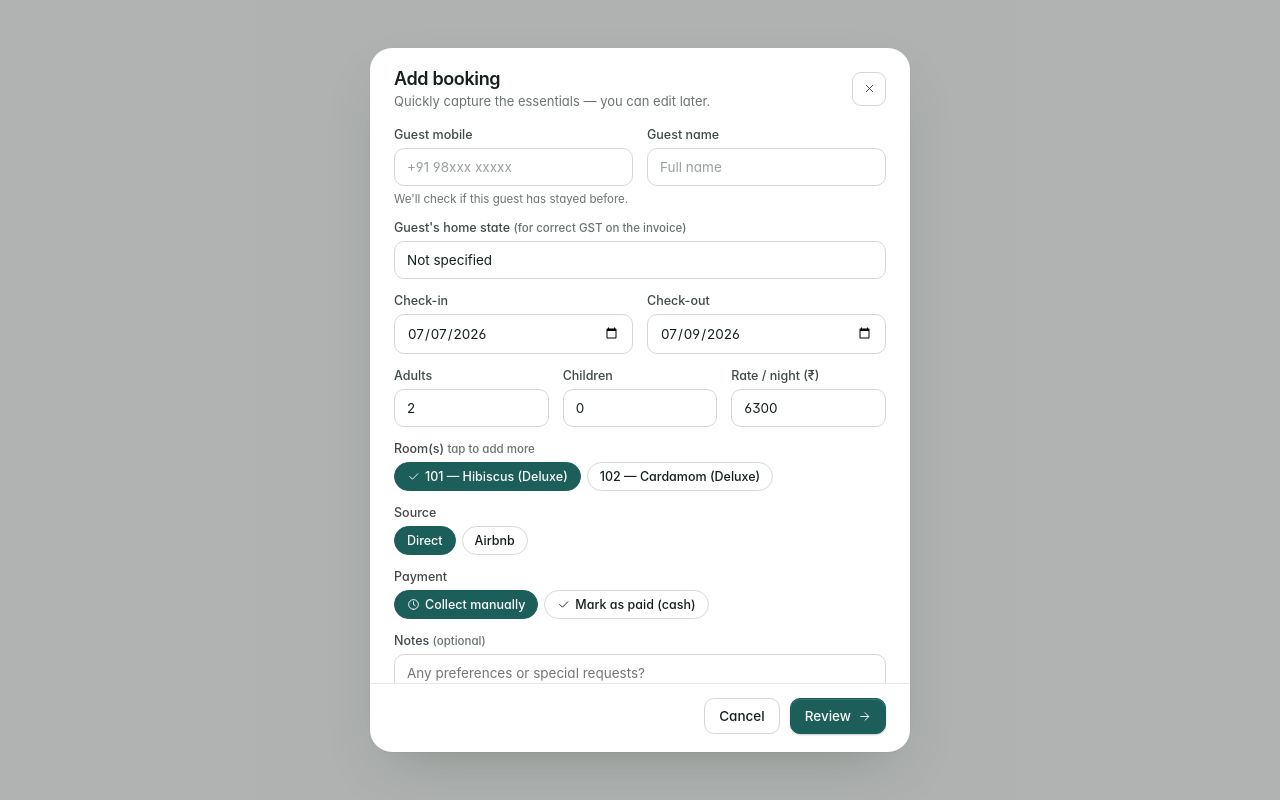
Test: QuickAdd › shows the server error on the review step on failure
This screenshot has width=1280, height=800.
In the field with placeholder "+91 98xxx xxxxx": (514, 167) [394, 148, 633, 186], type "+919812300000"
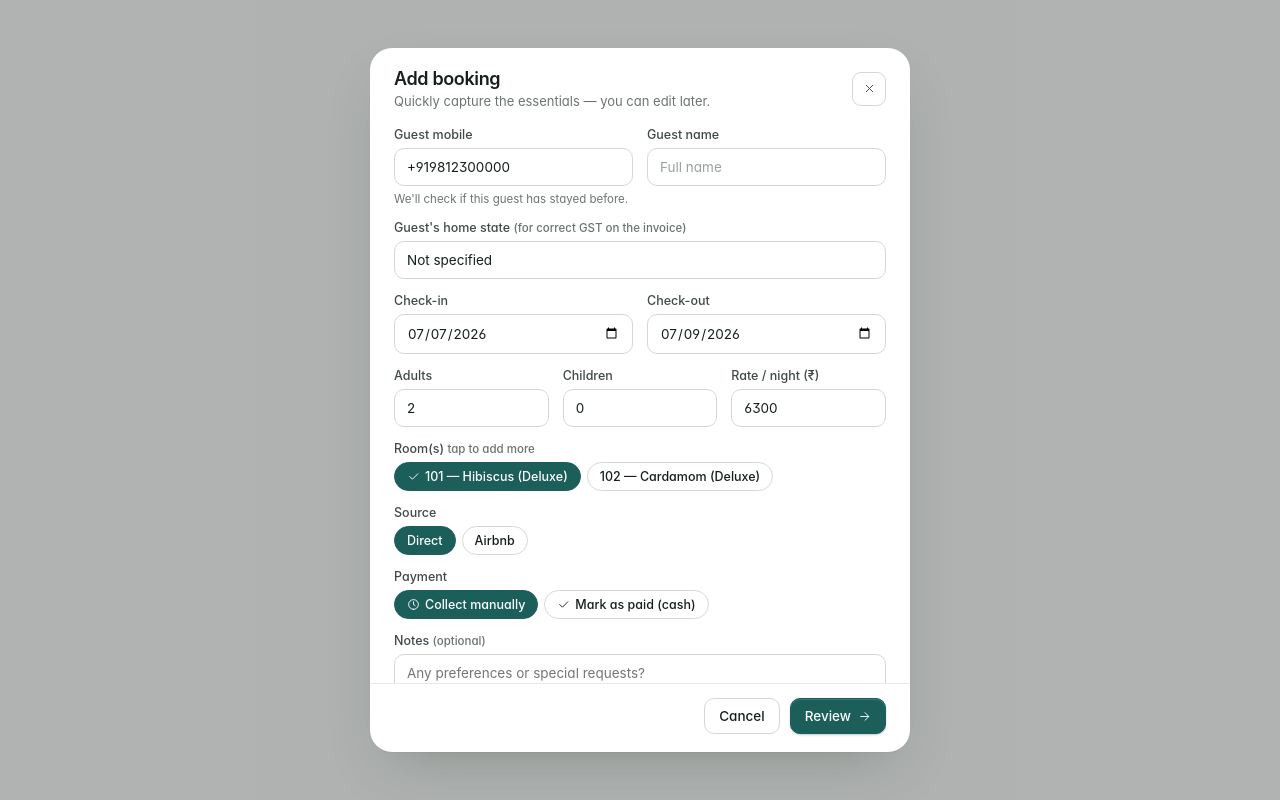
In the field with placeholder "Full name": (766, 167) [647, 148, 886, 186], type "Sameer"
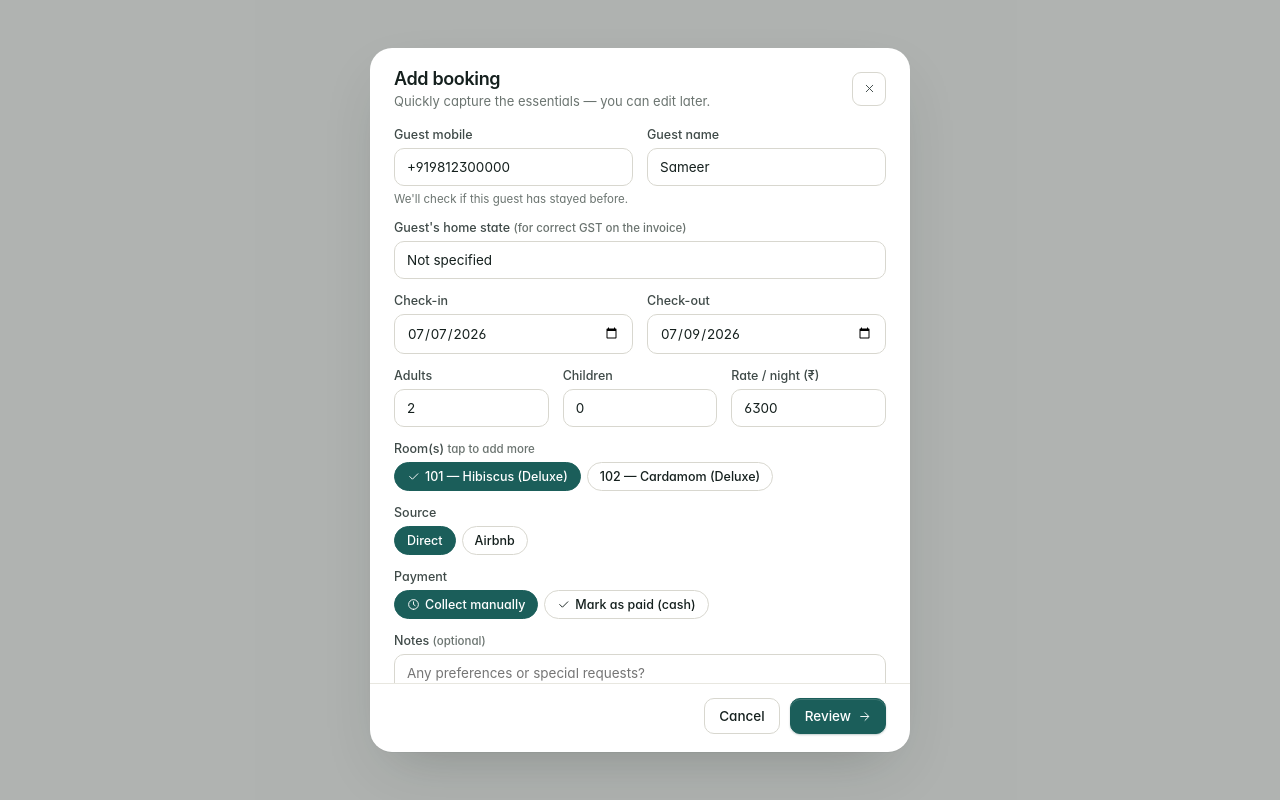
Click the button "Review": (838, 716) [790, 698, 886, 734]
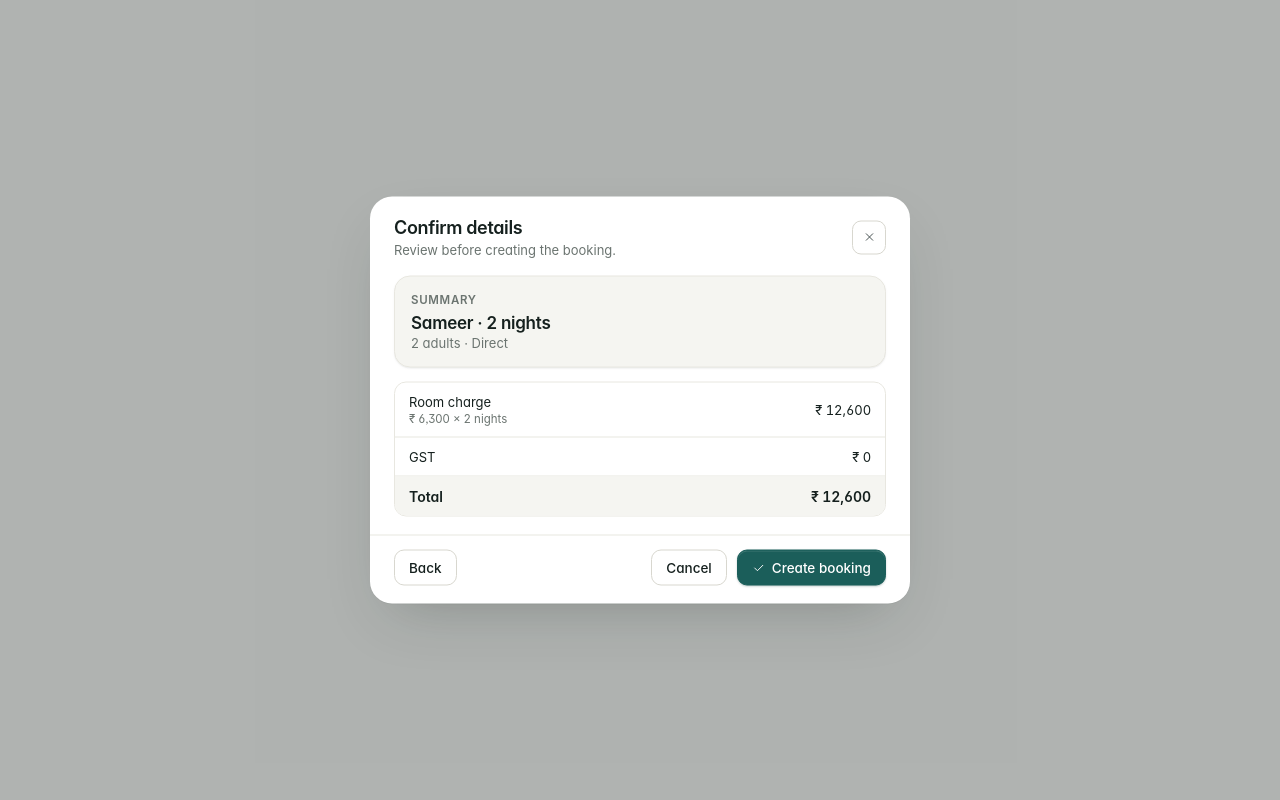
Click the button "Create booking": (811, 568) [737, 550, 886, 586]
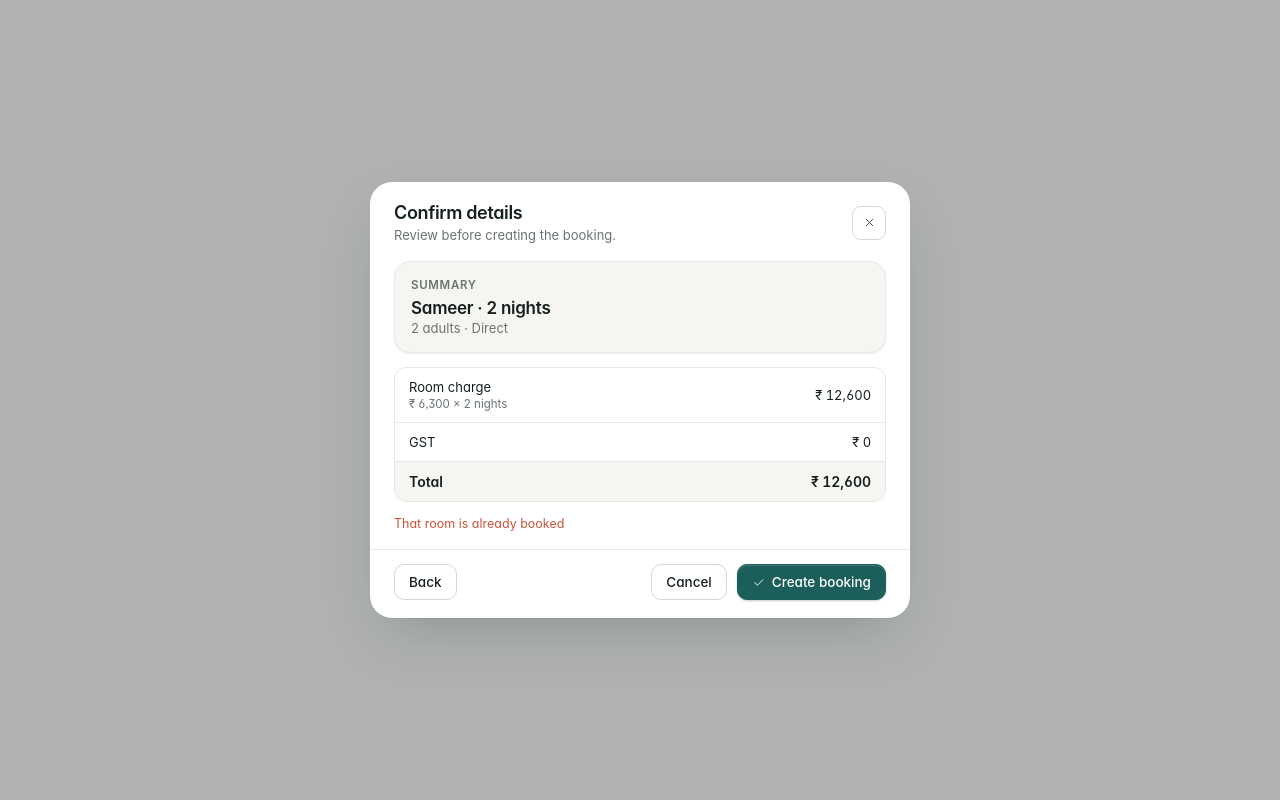
Now the heading "Confirm details" is shown, box [394, 202, 522, 223]
Now the text "That room is already booked" is shown, box [394, 516, 564, 531]
